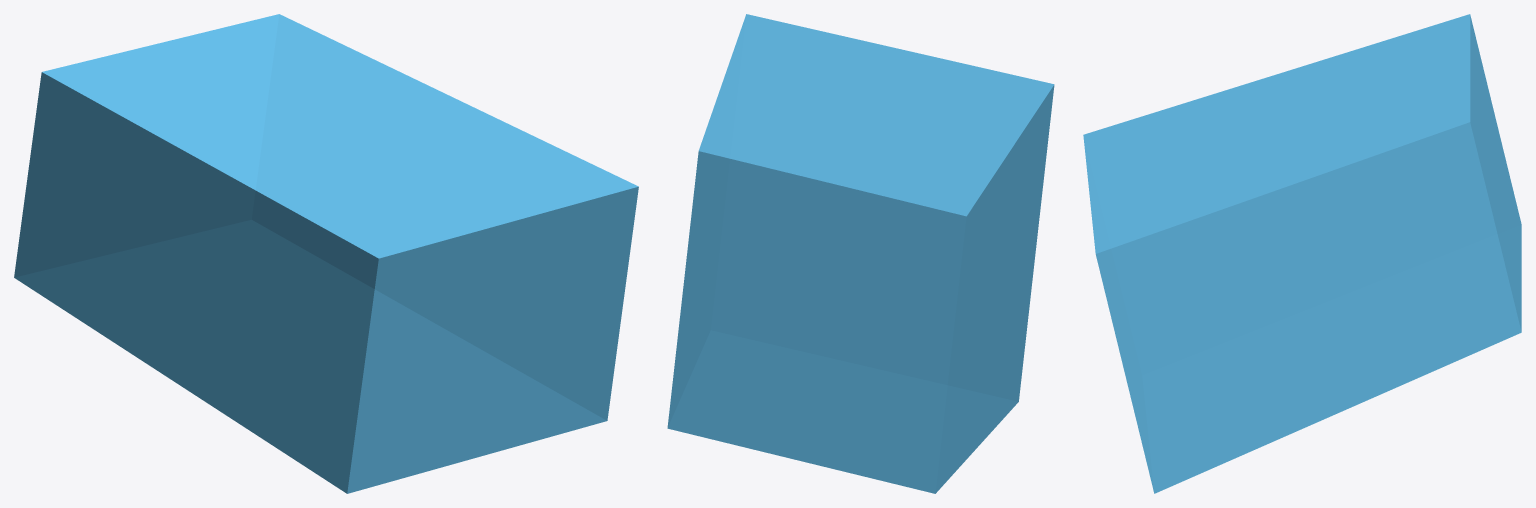
The model's file is Event_421364160_HBrechit_28.fbx.
The picture shows the model from 3 angles, left to right: view 1: azimuth 30°, elevation 25°; view 2: azimuth 150°, elevation 25°; view 3: azimuth 270°, elevation 25°; orthographic projection. The views are drawn at different scales.
Parts seen in each view (by area): view 1: Model; view 2: Model; view 3: Model.
Boxes of the visible parts, x1,y1,x2,y2 form: Model: (14,14,638,493); Model: (667,14,1054,493); Model: (1083,14,1521,493).
Size of the model in its own units: 0.7199 by 0.5638 by 0.7399.
